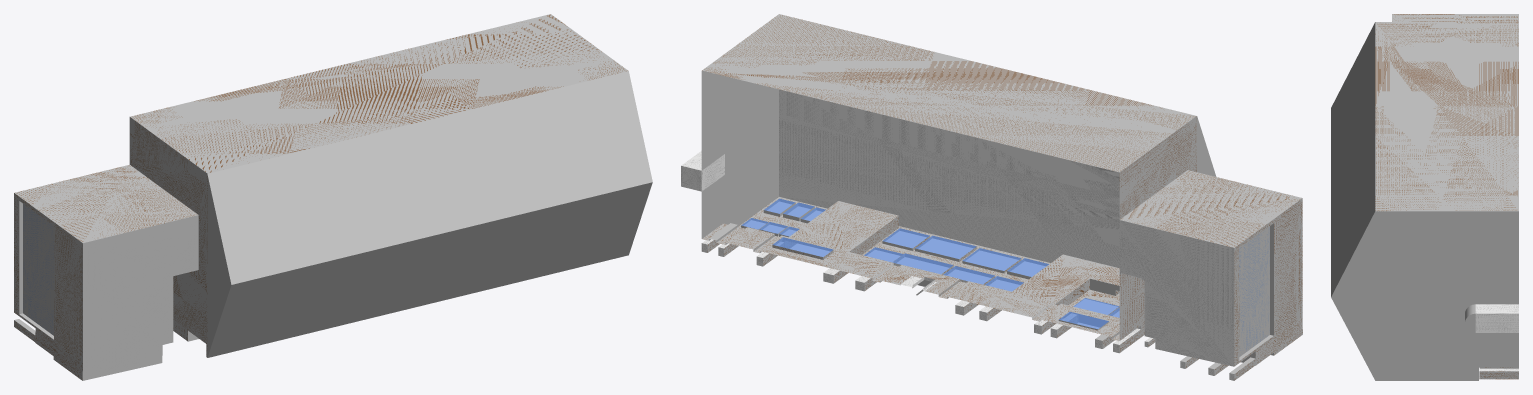
3 views of the same model, side by side, from view 1: azimuth 30°, elevation 25°; view 2: azimuth 150°, elevation 25°; view 3: azimuth 270°, elevation 25° (orthographic). The views are drawn at different scales.
Visible parts, largest first — view 1: Mesh5 Model; view 2: Mesh5 Model; view 3: Mesh5 Model, Mesh13 Model.
Part boxes in pixels (box(x1,y1,x2,y2)): Mesh5 Model: box(14, 14, 652, 380); Mesh5 Model: box(681, 14, 1302, 366); Mesh5 Model: box(1331, 14, 1518, 380); Mesh13 Model: box(1479, 368, 1518, 379).
Size of the model in its own units: 169 by 54.26 by 53.63.
